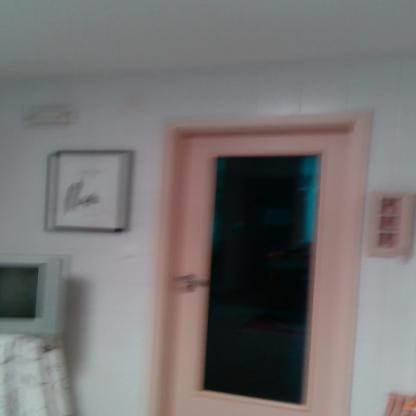door: (168, 132, 354, 416)
lever: (170, 278, 213, 286)
